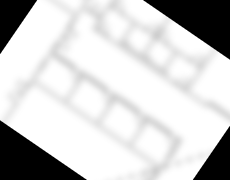door: (189, 50, 208, 68), (144, 19, 161, 38), (88, 2, 106, 19), (174, 73, 191, 91), (156, 28, 174, 45), (112, 0, 130, 15), (164, 134, 180, 150), (97, 20, 113, 36), (132, 112, 147, 127), (68, 68, 82, 83), (101, 90, 115, 104)
double door: (55, 26, 80, 54), (6, 78, 31, 105), (135, 167, 159, 180)
window: (36, 57, 51, 74)
